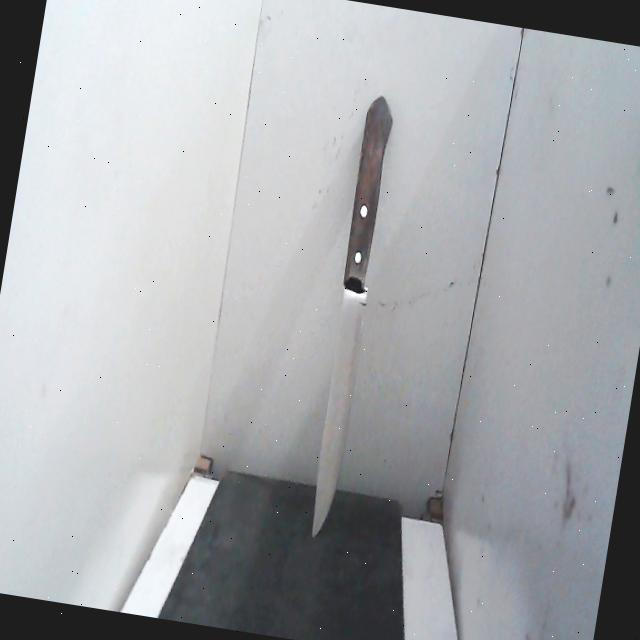metal: (294, 278, 376, 548)
